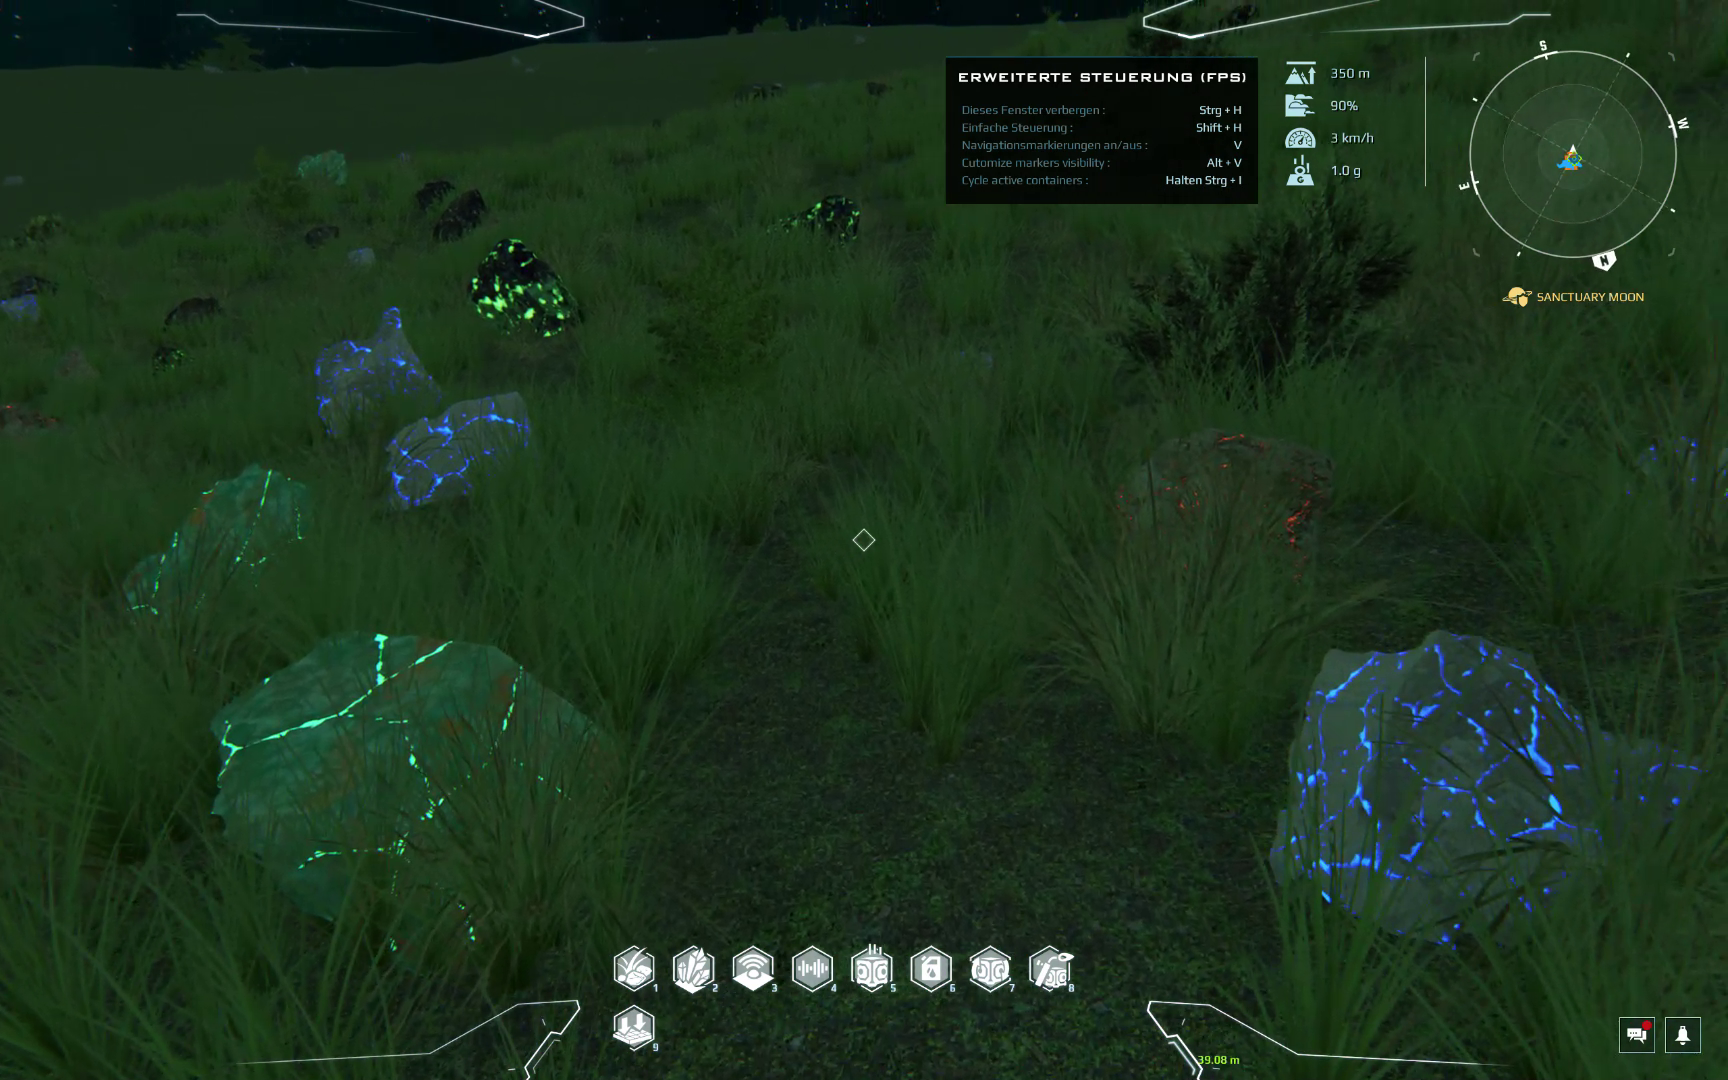Ore: (1263, 622, 1712, 972), (205, 620, 622, 971), (1101, 422, 1339, 600), (109, 460, 327, 633), (369, 384, 544, 508), (311, 302, 429, 438), (465, 234, 583, 347), (1616, 423, 1728, 538), (766, 185, 871, 251), (428, 187, 491, 241), (156, 291, 226, 332), (290, 141, 350, 188), (2, 399, 71, 438), (1, 270, 57, 302), (143, 343, 189, 379), (732, 77, 789, 106), (409, 170, 450, 207), (297, 219, 345, 250)
